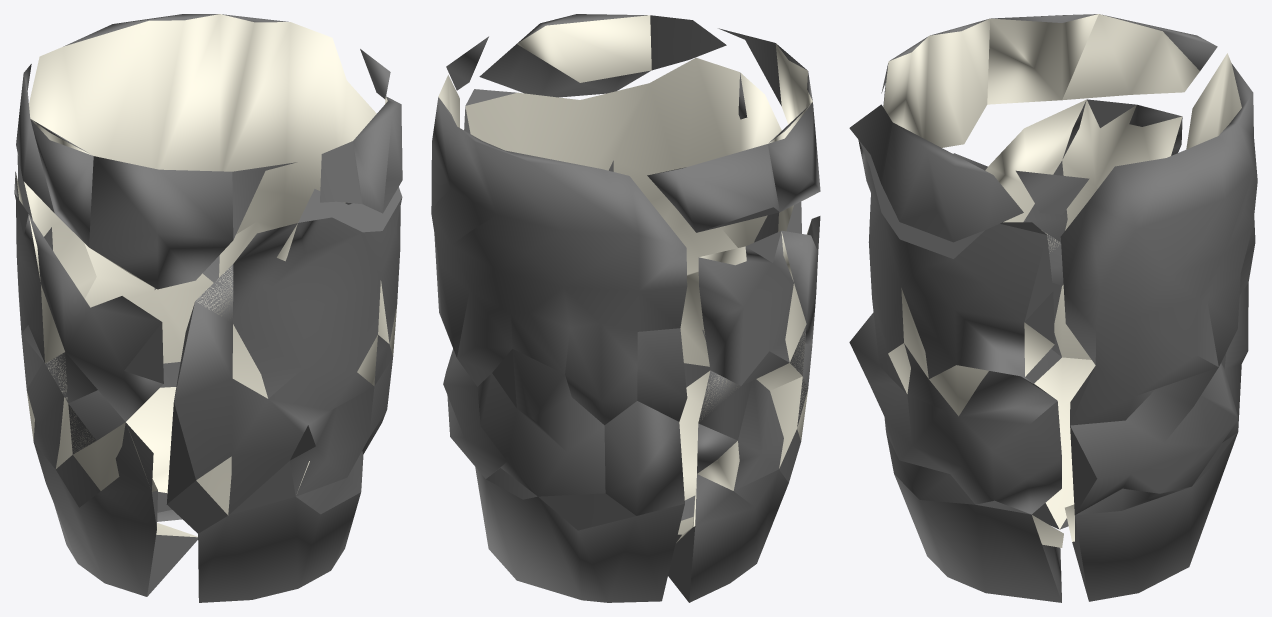
The model's file is CeramicsShattered.fbx_Cup_Fractured.fbx.
3 renders of one model, left to right at view 1: azimuth 30°, elevation 25°; view 2: azimuth 150°, elevation 25°; view 3: azimuth 270°, elevation 25°, orthographic.
Visible parts, largest first — view 1: Cup_cell, Cup_cell.001, Cup_cell.004, Cup_cell.002, Cup_cell.003, Cup_cell.005; view 2: Cup_cell.001, Cup_cell.004, Cup_cell, Cup_cell.002, Cup_cell.003, Cup_cell.005; view 3: Cup_cell.001, Cup_cell, Cup_cell.002, Cup_cell.004, Cup_cell.003, Cup_cell.005.
Boxes of the visible parts, x1=… form: Cup_cell: x1=166, y1=187, x2=402, y2=602; Cup_cell.001: x1=17, y1=14, x2=376, y2=521; Cup_cell.004: x1=14, y1=171, x2=197, y2=596; Cup_cell.002: x1=16, y1=64, x2=296, y2=289; Cup_cell.003: x1=320, y1=96, x2=402, y2=213; Cup_cell.005: x1=360, y1=49, x2=390, y2=99; Cup_cell.001: x1=431, y1=75, x2=687, y2=602; Cup_cell.004: x1=668, y1=216, x2=820, y2=602; Cup_cell: x1=464, y1=57, x2=801, y2=520; Cup_cell.002: x1=647, y1=28, x2=820, y2=232; Cup_cell.003: x1=479, y1=14, x2=726, y2=97; Cup_cell.005: x1=446, y1=36, x2=488, y2=90; Cup_cell.001: x1=1060, y1=53, x2=1257, y2=601; Cup_cell: x1=849, y1=140, x2=1063, y2=602; Cup_cell.002: x1=881, y1=14, x2=1217, y2=147; Cup_cell.004: x1=953, y1=99, x2=1182, y2=529; Cup_cell.003: x1=849, y1=104, x2=1023, y2=242; Cup_cell.005: x1=1016, y1=170, x2=1089, y2=214.
Bounding box in the file's own units: 5.26 × 6.48 × 5.
